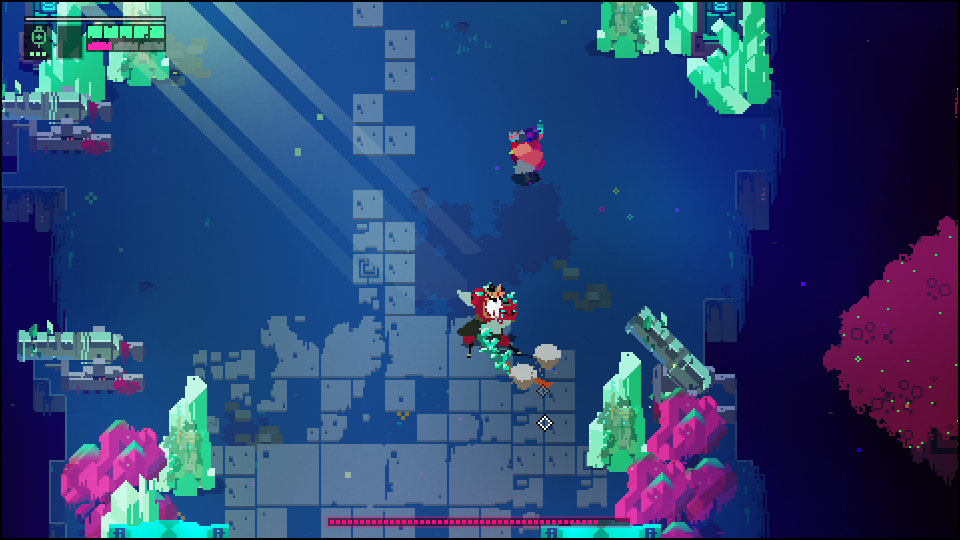hanged_man: (449, 277, 539, 384)
player: (505, 130, 546, 187)
